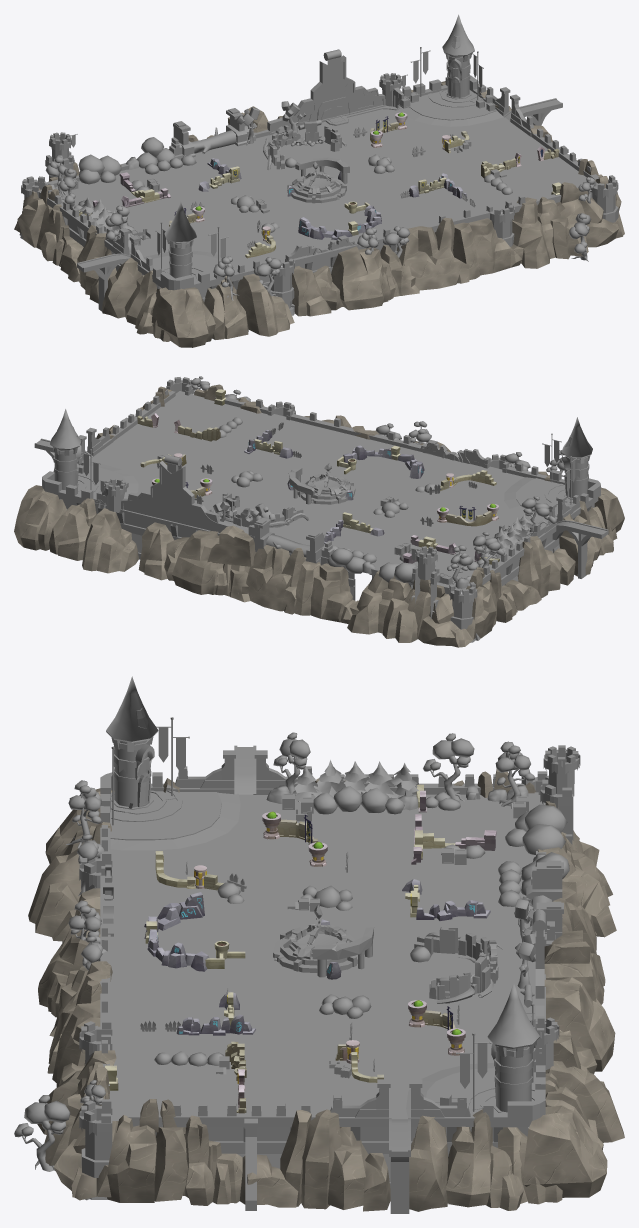
File: FBX@diban.FBX
3 views of the same model, one above another, from view 1: azimuth 30°, elevation 25°; view 2: azimuth 150°, elevation 25°; view 3: azimuth 270°, elevation 25° (orthographic). The views are drawn at different scales.
Parts seen in each view (by area): view 1: Hill, default, dizhuan_01, Tower_01, weiqian_01, Tree_10, Grass_03, Wall_02, dizhuan_02, weiqian_03, talou_02, shidui (+14 smaller); view 2: Hill, default, weiqian_01, Tower_01, dizhuan_01, weiqian_03, Tree_10, Wall_02, Grass_03, shidui, dizhuan_02, talou_02 (+15 smaller); view 3: default, Hill, dizhuan_01, Tower_01, Grass_03, Tree_10, Wall_02, dizhuan_02, shidui, weiqian_03, talou_02, shuijingquanshui (+15 smaller).
Part boxes in pixels (x1,y1,x2,y2): Hill: (14,81,624,347); default: (41,109,597,269); dizhuan_01: (63,141,574,231); Tower_01: (152,14,486,290); weiqian_01: (169,49,386,159); Tree_10: (45,155,595,300); Grass_03: (74,137,512,232); Wall_02: (77,87,562,311); dizhuan_02: (143,89,503,281); weiqian_03: (38,129,599,301); talou_02: (19,151,618,315); shidui: (198,158,561,239); Hill: (14,384,624,647); default: (89,391,543,592); weiqian_01: (120,454,334,564); Tower_01: (42,409,600,508); dizhuan_01: (153,404,476,584); weiqian_03: (59,391,594,600); Tree_10: (190,376,564,584); Wall_02: (34,427,608,578); Grass_03: (219,417,509,583); shidui: (214,389,424,543); dizhuan_02: (77,461,580,523); talou_02: (166,377,511,642); default: (109,792,538,1120); Hill: (28,769,624,1211); dizhuan_01: (128,805,517,1109); Tower_01: (100,676,545,1127); Grass_03: (154,786,569,1066); Tree_10: (14,732,534,1171); Wall_02: (170,745,474,1213); dizhuan_02: (110,790,535,1117); shidui: (105,879,490,1090); weiqian_03: (99,783,546,1187); talou_02: (81,771,573,1200); shuijingquanshui: (273,904,374,977).
Size of the model in its own units: 7254 by 1712 by 4629.
